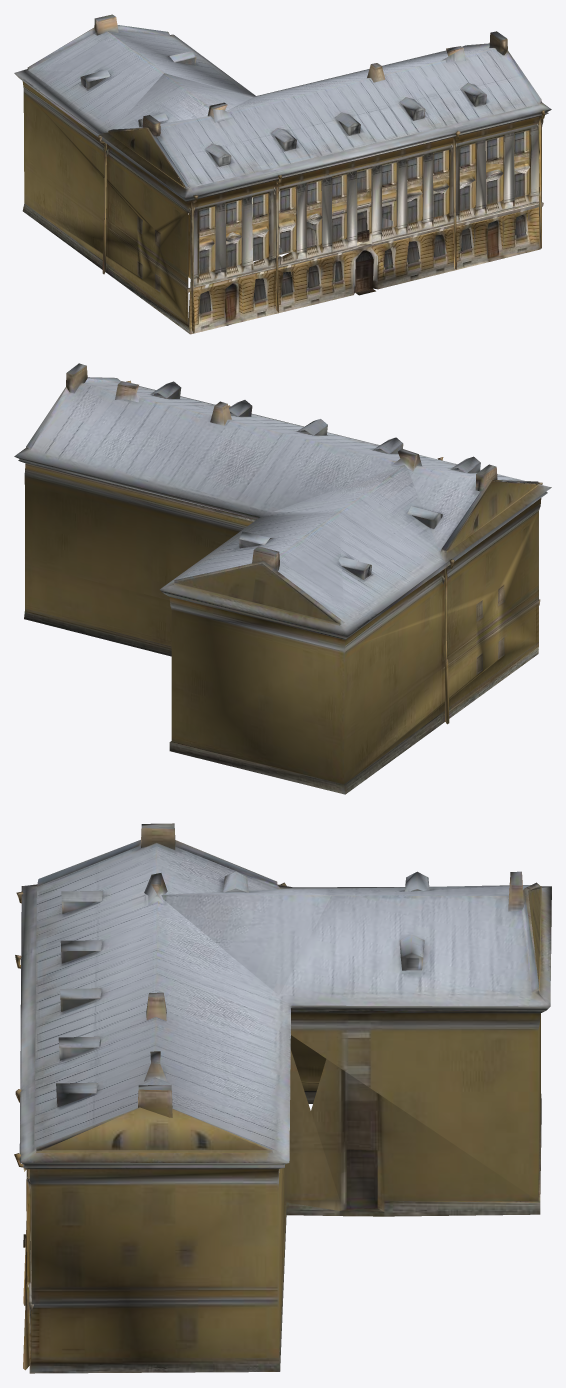
Rendered from spb_r5.glb.
The picture shows the model from 3 angles, top to bottom: view 1: azimuth 30°, elevation 25°; view 2: azimuth 150°, elevation 25°; view 3: azimuth 270°, elevation 25°; orthographic projection. The views are drawn at different scales.
Visible parts, largest first — view 1: tripo_node_2a7b02ce; view 2: tripo_node_2a7b02ce; view 3: tripo_node_2a7b02ce.
Part boxes in pixels (<box>): tripo_node_2a7b02ce: <box>14,14,551,334</box>; tripo_node_2a7b02ce: <box>14,363,551,794</box>; tripo_node_2a7b02ce: <box>14,823,551,1373</box>.
Bounding box in the file's own units: 0.9991 × 0.4784 × 0.8172.
Materials: 1 (1 with a texture image).
